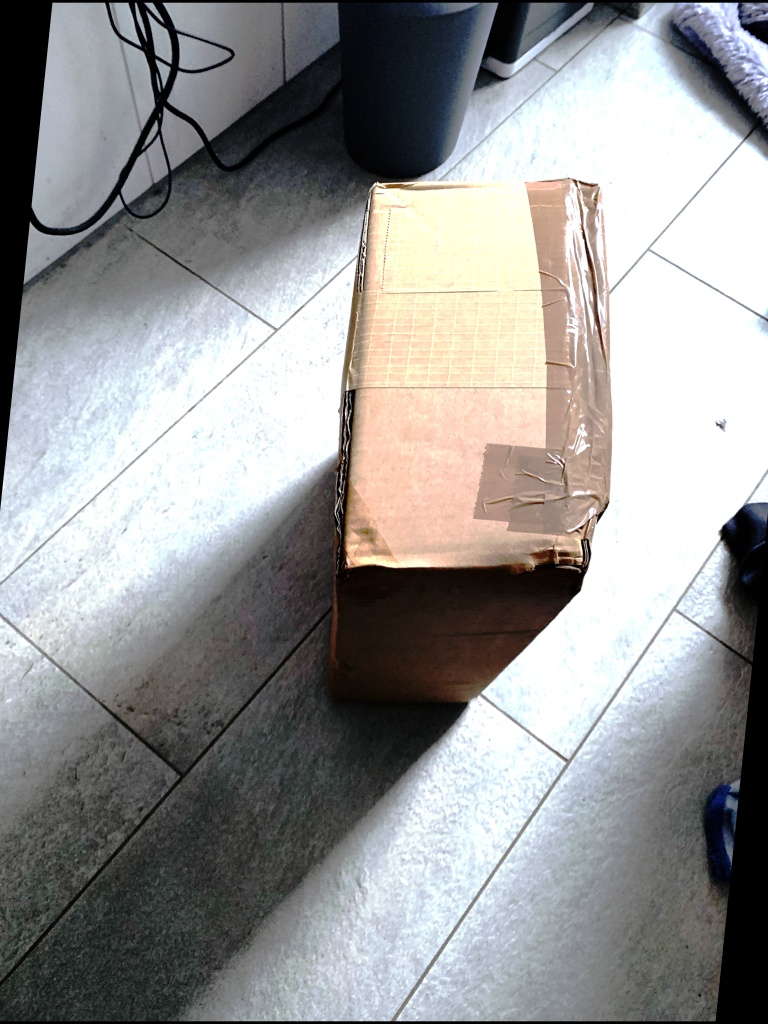good-parcel: (325, 168, 619, 624)
